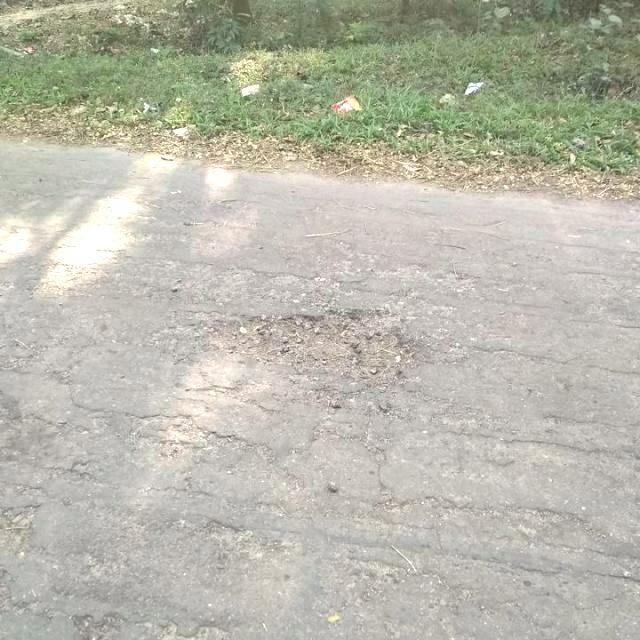Pothole: (204, 307, 426, 390)
